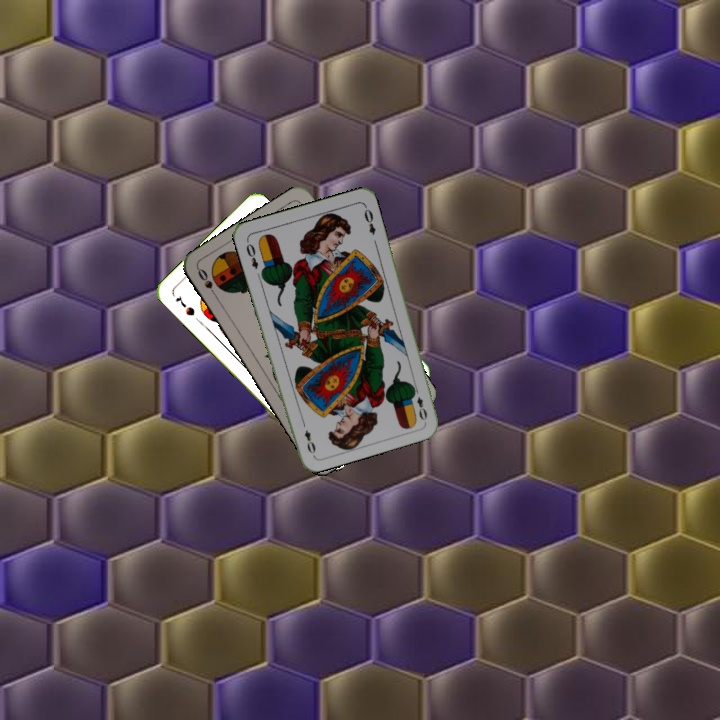EO: (409, 383, 430, 423), (242, 237, 261, 272)
S7: (171, 291, 197, 318)
SO: (193, 264, 220, 301)
